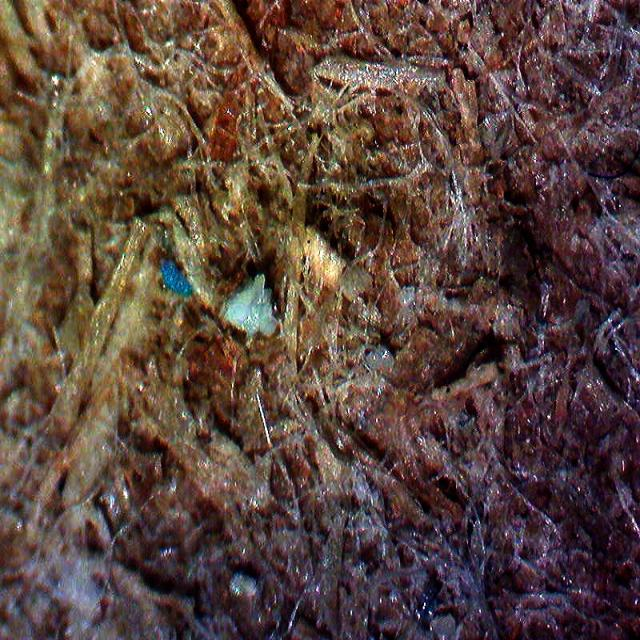microplastic: (226, 268, 276, 337), (147, 254, 199, 307)
